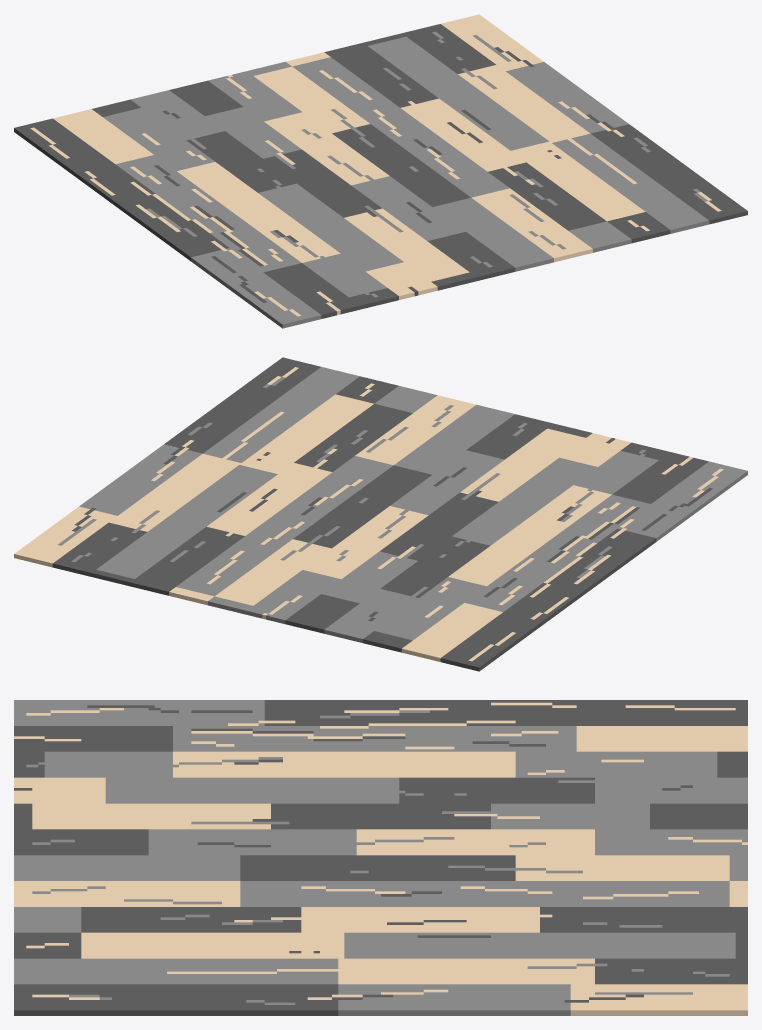
Rendered from floor.obj.
3 renders of one model, top to bottom at view 1: azimuth 30°, elevation 25°; view 2: azimuth 150°, elevation 25°; view 3: azimuth 270°, elevation 25°, orthographic. The views are drawn at different scales.
Bounding box in the file's own units: 12 × 0.1 × 12.
Materials: 1 (1 with a texture image).
